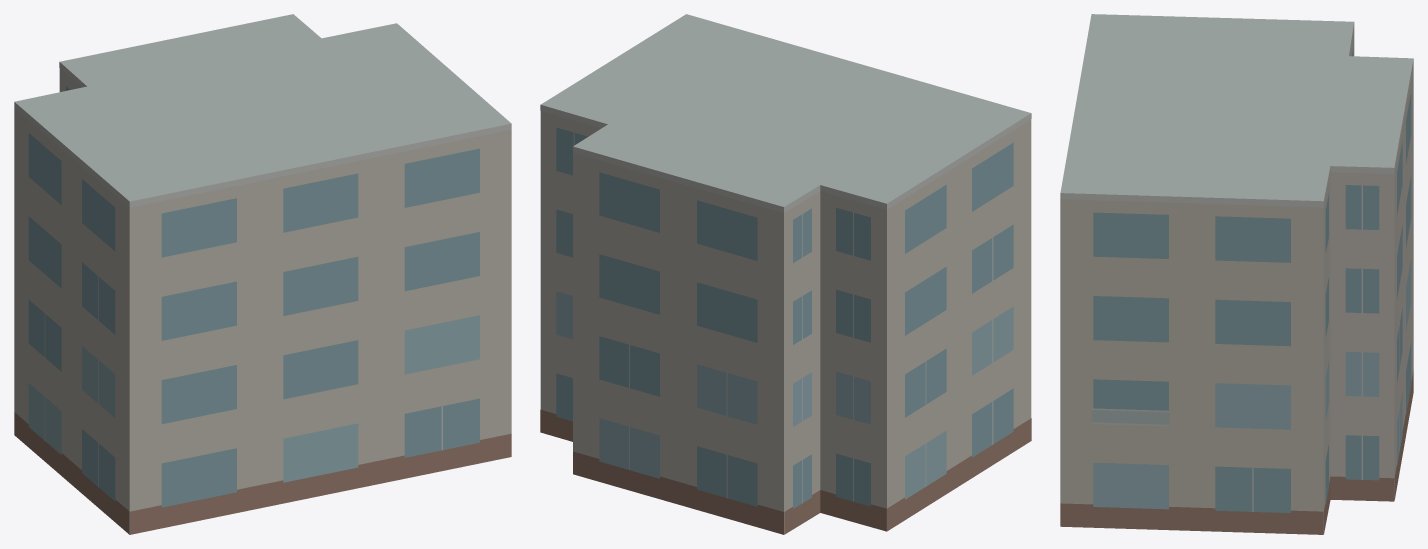
Rendered from survey-upis-33001685.glb.
3 renders of one model, left to right at view 1: azimuth 30°, elevation 25°; view 2: azimuth 150°, elevation 25°; view 3: azimuth 270°, elevation 25°, orthographic.
Parts seen in each view (by area): view 1: survey-upis-33001685.tmp; view 2: survey-upis-33001685.tmp; view 3: survey-upis-33001685.tmp.
Boxes of the visible parts, bbox=[...] form: survey-upis-33001685.tmp: bbox=[14, 14, 511, 534]; survey-upis-33001685.tmp: bbox=[540, 14, 1031, 534]; survey-upis-33001685.tmp: bbox=[1060, 14, 1413, 534].
Bounding box in the file's own units: 16.01 × 13.3 × 12.77.
